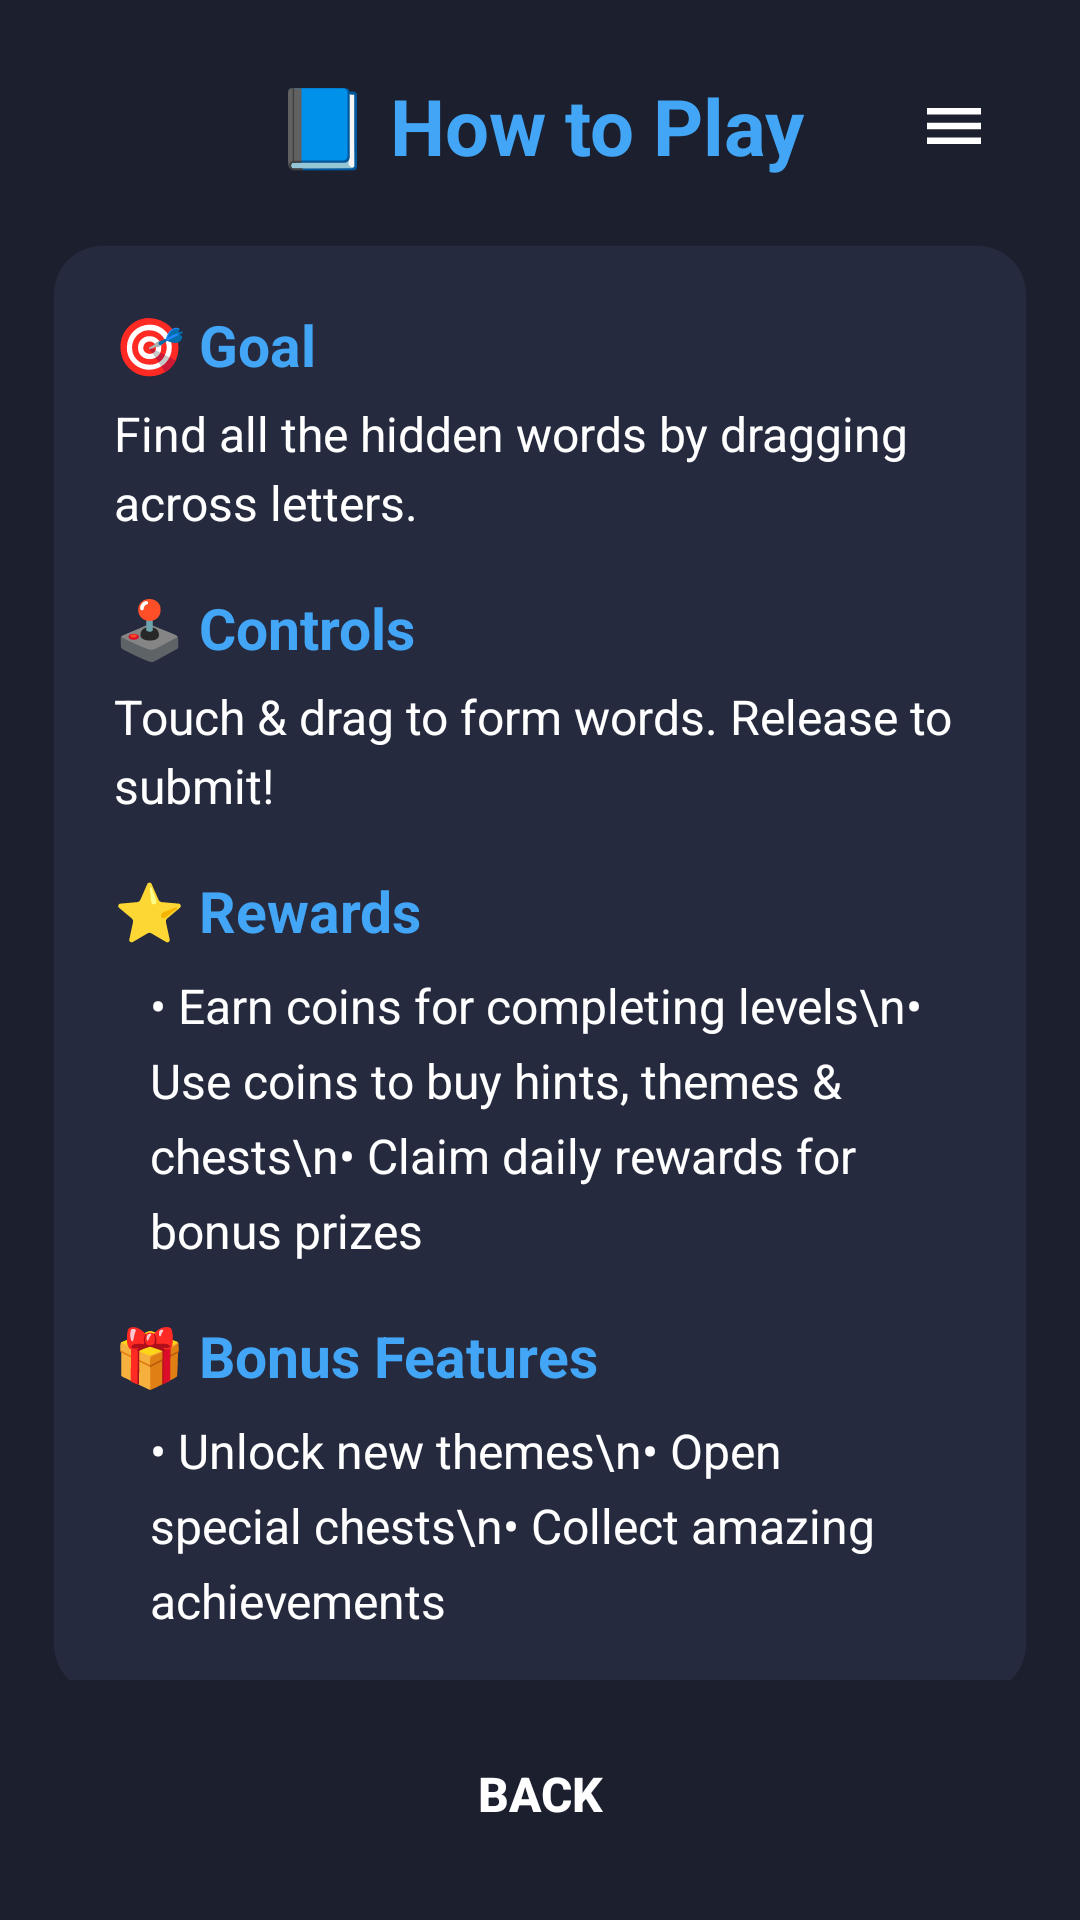

Icon bounding boxes for this 1080 x 1920 phone screenshot, format rect(x1, y1, x2, y2):
Open menu: rect(927, 108, 981, 144)
